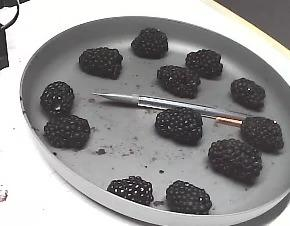berry: (208, 139, 261, 185), (155, 108, 202, 145), (44, 111, 89, 148), (166, 180, 211, 214), (240, 117, 283, 151), (157, 65, 199, 98), (79, 47, 122, 79), (107, 176, 153, 205), (40, 81, 74, 118), (231, 78, 265, 110), (131, 28, 167, 58), (185, 49, 222, 78)
